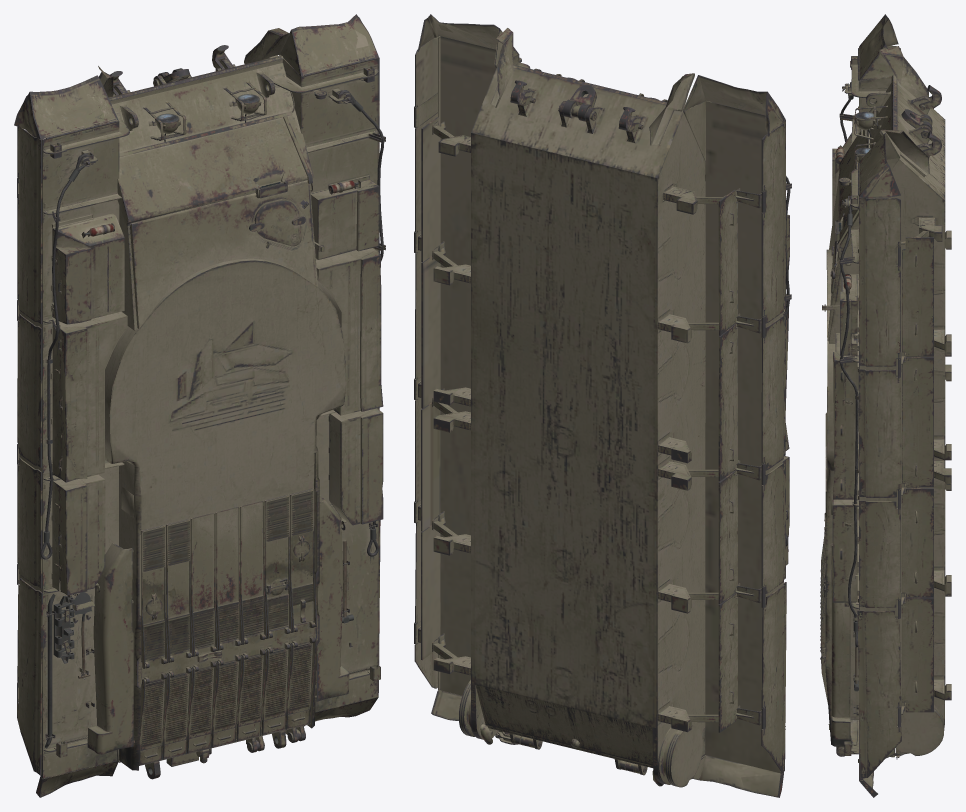
File: Hull.glb
3 views of the same model, side by side, from view 1: azimuth 30°, elevation 25°; view 2: azimuth 150°, elevation 25°; view 3: azimuth 270°, elevation 25° (orthographic). The views are drawn at different scales.
Visible parts, largest first — view 1: set_0_group_0; view 2: set_0_group_0; view 3: set_0_group_0.
Boxes of the visible parts, <box> form: set_0_group_0: <box>14,14,385,797</box>; set_0_group_0: <box>414,14,791,797</box>; set_0_group_0: <box>820,14,951,797</box>.
Bounding box in the file's own units: 4.03 × 7.77 × 1.44.
1 material, 1 textured.
